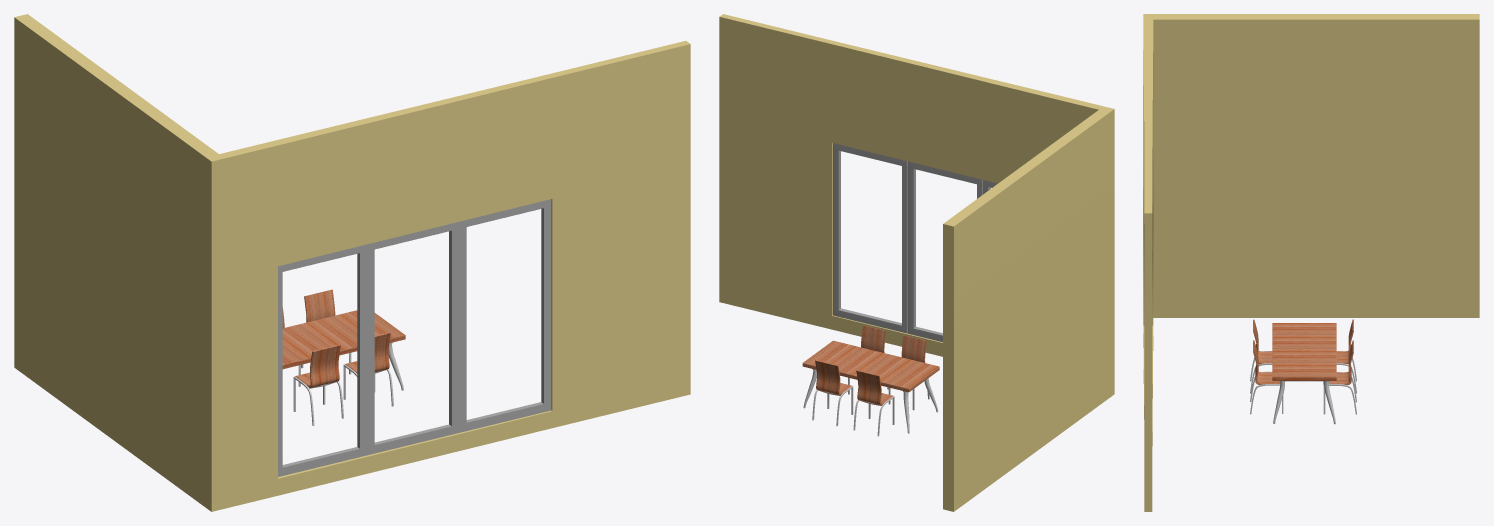
Rendered from house.fbx.
3 views of the same model, side by side, from view 1: azimuth 30°, elevation 25°; view 2: azimuth 150°, elevation 25°; view 3: azimuth 270°, elevation 25° (orthographic). The views are drawn at different scales.
Parts seen in each view (by area): view 1: Wall, Window_01, Window_02, Window_03, TableTop, Chair_04, Chair_03, Chair_01; view 2: Wall, Window_01, TableTop, Window_02, Chair_01, Chair_02, Chair_04, Chair_03; view 3: Wall, TableTop, Chair_01, Chair_03, Chair_04, Chair_02.
Part boxes in pixels (x1=…): Wall: x1=14, y1=14, x2=690, y2=511; Window_01: x1=459, y1=199, x2=551, y2=432; Window_02: x1=367, y1=222, x2=459, y2=455; Window_03: x1=278, y1=244, x2=367, y2=476; TableTop: x1=282, y1=310, x2=405, y2=368; Chair_04: x1=293, y1=344, x2=343, y2=425; Chair_03: x1=343, y1=332, x2=393, y2=406; Chair_01: x1=301, y1=289, x2=351, y2=374; Wall: x1=719, y1=14, x2=1114, y2=511; Window_01: x1=833, y1=143, x2=907, y2=333; TableTop: x1=802, y1=340, x2=939, y2=392; Window_02: x1=908, y1=161, x2=982, y2=341; Chair_01: x1=812, y1=360, x2=853, y2=426; Chair_02: x1=853, y1=370, x2=894, y2=436; Chair_04: x1=888, y1=335, x2=929, y2=410; Chair_03: x1=848, y1=325, x2=888, y2=394; Wall: x1=1143, y1=14, x2=1479, y2=511; TableTop: x1=1272, y1=323, x2=1336, y2=380; Chair_01: x1=1323, y1=340, x2=1356, y2=414; Chair_03: x1=1250, y1=340, x2=1283, y2=414; Chair_04: x1=1250, y1=319, x2=1272, y2=393; Chair_02: x1=1336, y1=319, x2=1356, y2=393.
Size of the model in its own units: 96.84 by 67.57 by 68.96.
Materials: 5 (1 with a texture image).
